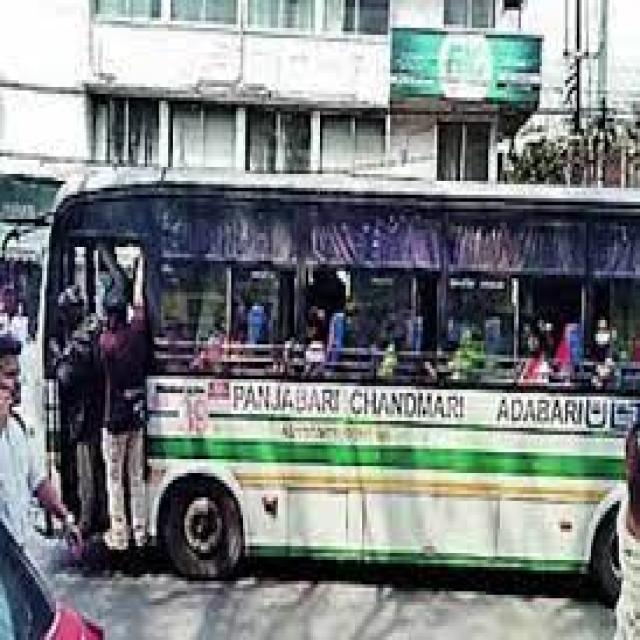Bus: (46, 150, 640, 607)
